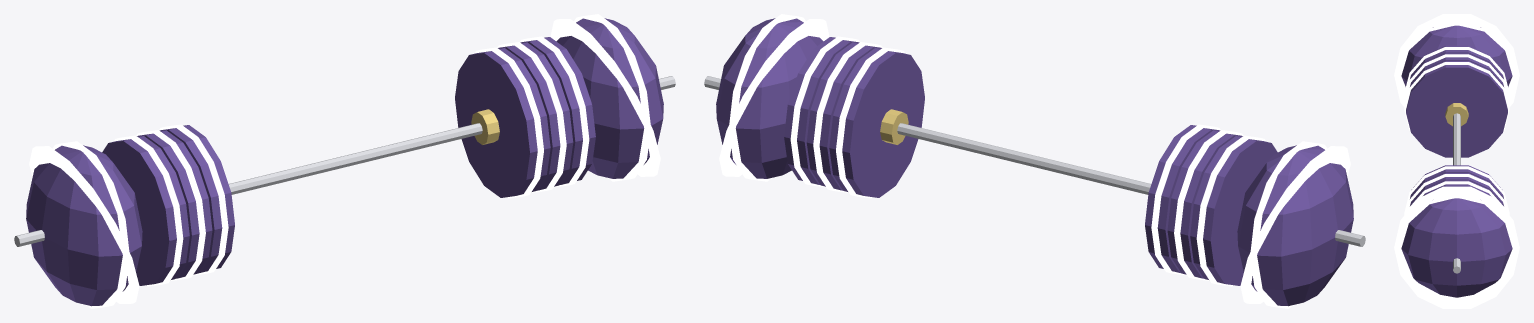
The model's file is Cosmic_Barbell.fbx.
The picture shows the model from 3 angles, left to right: view 1: azimuth 30°, elevation 25°; view 2: azimuth 150°, elevation 25°; view 3: azimuth 270°, elevation 25°; orthographic projection. The views are drawn at different scales.
Visible parts, largest first — view 1: Cosmic_Plates, Cosmic_Glow, Cosmic_Bar, Cosmic_Collars; view 2: Cosmic_Plates, Cosmic_Glow, Cosmic_Bar, Cosmic_Collars; view 3: Cosmic_Plates, Cosmic_Glow, Cosmic_Bar, Cosmic_Collars.
Part boxes in pixels (x1=…): Cosmic_Plates: x1=26, y1=18, x2=663, y2=306; Cosmic_Glow: x1=29, y1=14, x2=660, y2=308; Cosmic_Bar: x1=14, y1=76, x2=675, y2=246; Cosmic_Collars: x1=471, y1=109, x2=499, y2=144; Cosmic_Plates: x1=716, y1=18, x2=1353, y2=306; Cosmic_Glow: x1=719, y1=14, x2=1350, y2=308; Cosmic_Bar: x1=704, y1=76, x2=1365, y2=246; Cosmic_Collars: x1=880, y1=109, x2=908, y2=144; Cosmic_Plates: x1=1401, y1=25, x2=1512, y2=297; Cosmic_Glow: x1=1394, y1=14, x2=1519, y2=308; Cosmic_Bar: x1=1453, y1=113, x2=1460, y2=273; Cosmic_Collars: x1=1445, y1=103, x2=1468, y2=126.
Size of the model in its own units: 10.71 by 2.42 by 2.62.
